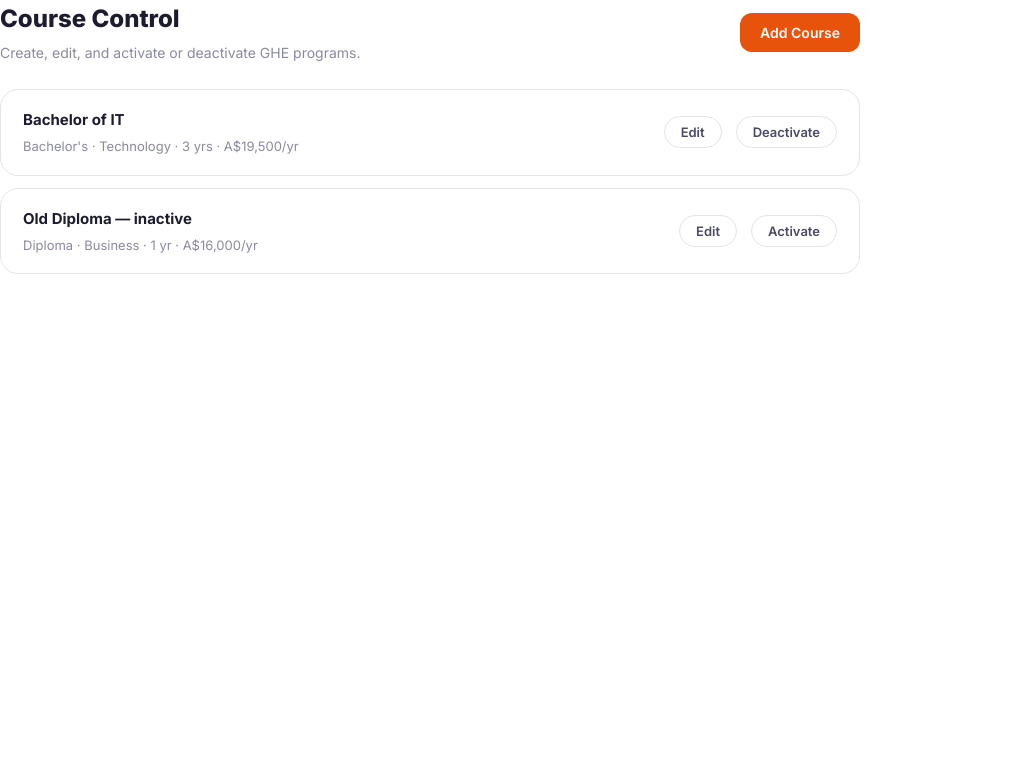
Test: opens the create-course form prefilled empty when Add Course is clicked
The image size is (1024, 768).
Expected: the text "Bachelor of IT" is shown, [23,110,125,129]
Click the button "Add Course" at (800, 32), box [740,13,860,52]
(page scrolled)
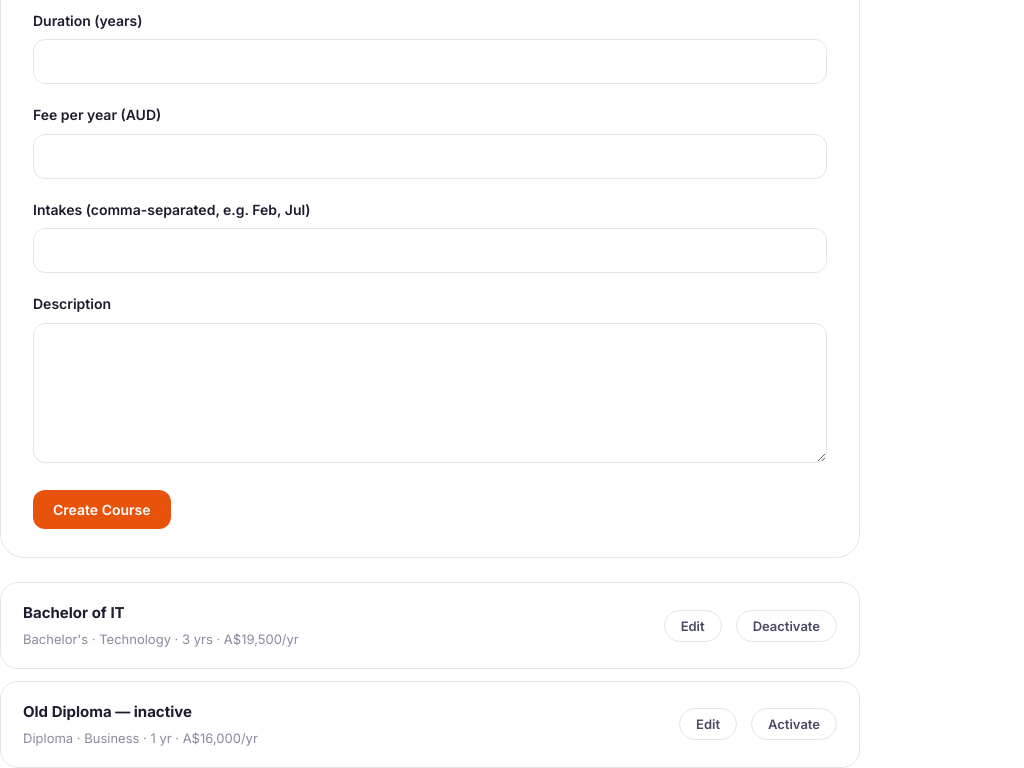
Expected: the button "Create Course" is shown, [33,490,171,529]
